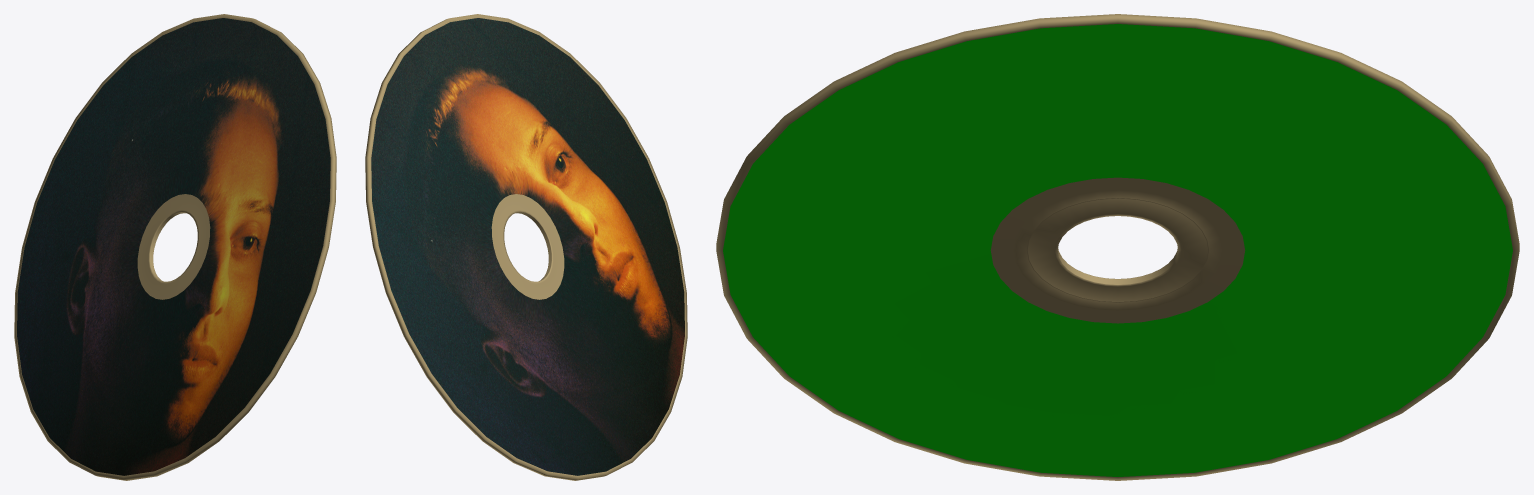
The model's file is cd-case-model.glb.
3 renders of one model, left to right at view 1: azimuth 30°, elevation 25°; view 2: azimuth 150°, elevation 25°; view 3: azimuth 270°, elevation 25°, orthographic. The views are drawn at different scales.
Visible parts, largest first — view 1: Circle; view 2: Circle; view 3: Circle.
Part boxes in pixels (x1,y1,x2,y2): Circle: (14,14,336,480); Circle: (365,14,687,480); Circle: (716,14,1519,480).
Size of the model in its own units: 0.5425 by 0.9298 by 1.07.
Materials: 3 (1 with a texture image).
